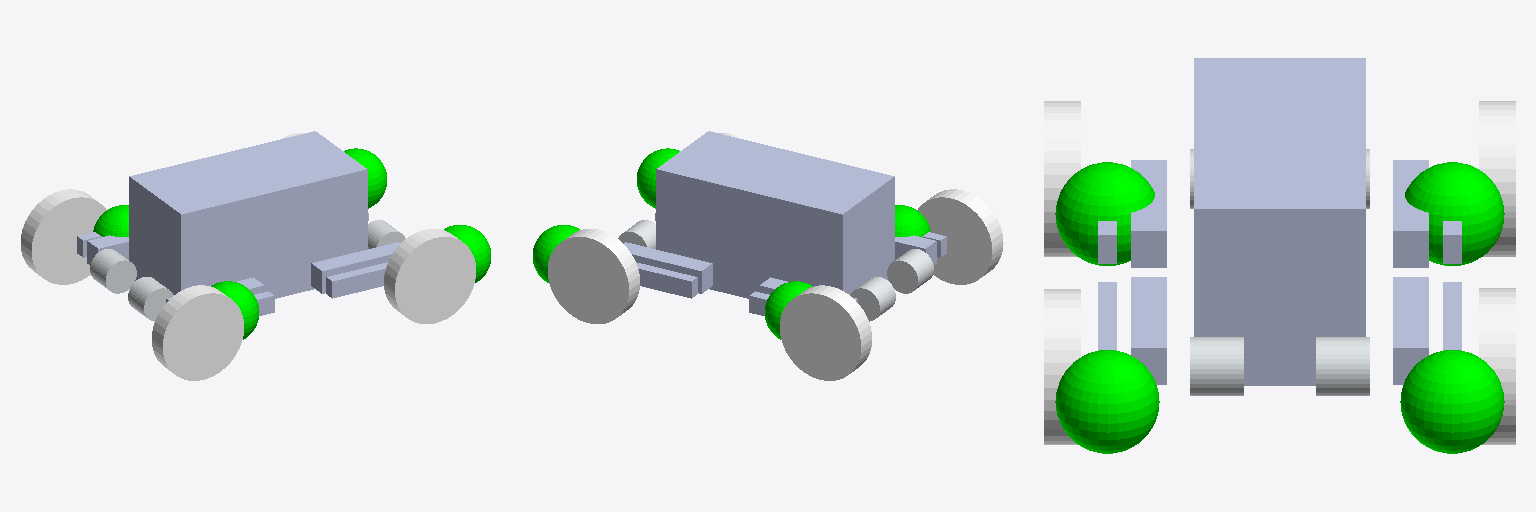
The robot description file, URDF, robot "robotsky_wq":
<?xml version="1.0" encoding="utf-8"?>
<!-- This URDF was automatically created by SolidWorks to URDF Exporter! Originally created by [author] ([email redacted]) 
     Commit Version: 1.6.0-4-g7f85cfe  Build Version: 1.6.7995.38578
     For more information, please see http://wiki.ros.org/sw_urdf_exporter -->
<robot name="robotsky_wq">
  <link name="base_link">
    <inertial>
      <origin xyz="0.0 0.0 0.0" rpy="0 0 0" />
      <mass value="10.2741064" />
      <inertia ixx="0.06433677438" ixy="-5.51931185939954E-18" ixz="2.59645143851211E-35" iyy="0.1557870497976" iyz="1.1905679766836E-34" izz="0.147821154744" />
    </inertial>
    <visual>
      <origin xyz="0 0 0" rpy="0 0 0" />
      <geometry>
        <mesh filename="package://srobot_description/meshes/robotsky_wq/base_link.STL" />
      </geometry>
      <material name="">
        <color rgba="0.796078431372549 0.823529411764706 0.937254901960784 1" />
      </material>
    </visual>
    <collision>
      <origin xyz="0 0 0" rpy="0 0 0" />
      <geometry>
        <mesh filename="package://srobot_description/meshes/robotsky_wq/base_link.STL" />
      </geometry>
    </collision>
  </link>
  <link name="RF_Roll_Link">
    <inertial>
      <origin xyz="0.213 -0.0605 0" rpy="0 0 0" />
      <mass value="0.351377163747343" />
      <inertia ixx="0.000147512525555682" ixy="7.27296704683984E-21" ixz="2.91358029794812E-36" iyy="0.00014270305062689" iyz="-1.01206721034946E-36" izz="0.000147512525555682" />
    </inertial>
    <visual>
      <origin xyz="0 0 0" rpy="0 0 0" />
      <geometry>
        <mesh filename="package://srobot_description/meshes/robotsky_wq/RF_Roll_Link.STL" />
      </geometry>
      <material name="">
        <color rgba="0.898039215686275 0.917647058823529 0.929411764705882 1" />
      </material>
    </visual>
    <collision>
      <origin xyz="0 0 0" rpy="0 0 0" />
      <geometry>
        <mesh filename="package://srobot_description/meshes/robotsky_wq/RF_Roll_Link.STL" />
      </geometry>
    </collision>
  </link>
  <joint name="RF_Roll_Joint" type="revolute">
    <origin xyz="0 0 0" rpy="0 0 0" />
    <parent link="base_link" />
    <child link="RF_Roll_Link" />
    <axis xyz="1 0 0" />
    <limit lower="-0.5" upper="1.57" effort="7" velocity="12" />
  </joint>
  <link name="RF_Hip_Link">
    <inertial>
      <origin xyz="-0.0799999999999999 -0.0655 6.93889390390723E-18" rpy="0 0 0" />
      <mass value="0.2576" />
      <inertia ixx="6.06433333333334E-05" ixy="-6.03732920138416E-21" ixz="-5.19513540982638E-21" iyy="0.000583893333333334" iyz="1.2987838524566E-21" izz="0.000575843333333334" />
    </inertial>
    <visual>
      <origin xyz="0 0 0" rpy="0 0 0" />
      <geometry>
        <mesh filename="package://srobot_description/meshes/robotsky_wq/RF_Hip_Link.STL" />
      </geometry>
      <material name="">
        <color rgba="0.796078431372549 0.823529411764706 0.937254901960784 1" />
      </material>
    </visual>
    <collision>
      <origin xyz="0 0 0" rpy="0 0 0" />
      <geometry>
        <mesh filename="package://srobot_description/meshes/robotsky_wq/RF_Hip_Link.STL" />
      </geometry>
    </collision>
  </link>
  <joint name="RF_Hip_Joint" type="revolute">
    <origin xyz="0.213 -0.06 0" rpy="0 0 0" />
    <parent link="RF_Roll_Link" />
    <child link="RF_Hip_Link" />
    <axis xyz="0 1 0" />
    <limit lower="-3.14" upper="0.01" effort="14" velocity="30" />
  </joint>
  <link name="RF_Knee_Link">
    <inertial>
      <origin xyz="0.08 -0.04 6.93889390390723E-18" rpy="0 0 0" />
      <mass value="0.50488" />
      <inertia ixx="1.102114E-05" ixy="1.34076054656801E-22" ixz="-5.98479599211999E-22" iyy="0.00023161" iyz="-3.24695963114148E-22" izz="0.00022689914" />
    </inertial>
    <visual>
      <origin xyz="0 0 0" rpy="0 0 0" />
      <geometry>
        <mesh filename="package://srobot_description/meshes/robotsky_wq/RF_Knee_Link.STL" />
      </geometry>
      <material name="">
        <color rgba="0.796078431372549 0.823529411764706 0.937254901960784 1" />
      </material>
    </visual>
    <collision>
      <origin xyz="0 0 0" rpy="0 0 0" />
      <geometry>
        <mesh filename="package://srobot_description/meshes/robotsky_wq/RF_Knee_Link.STL" />
      </geometry>
    </collision>
  </link>
  <joint name="RF_Knee_Joint" type="revolute">
    <origin xyz="-0.16 -0.0655 0" rpy="0 0 0" />
    <parent link="RF_Hip_Link" />
    <child link="RF_Knee_Link" />
    <axis xyz="0 1 0" />
    <limit lower="-0.01" upper="3.14" effort="17" velocity="30" />
  </joint>
  <link name="RF_Wheel_Link">
    <inertial>
      <origin xyz="2.77555756156289E-17 -0.0430000000000001 0" rpy="0 0 0" />
      <mass value="0.630871074749001" />
      <inertia ixx="0.000951563871079743" ixy="-9.77416343626862E-20" ixz="-6.6558105573585E-51" iyy="0.00177432489773156" iyz="-1.60011892683328E-36" izz="0.000951563871079743" />
    </inertial>
    <visual>
      <origin xyz="0 0 0" rpy="0 0 0" />
      <geometry>
        <mesh filename="package://srobot_description/meshes/robotsky_wq/RF_Wheel_Link.STL" />
      </geometry>
      <material name="">
        <color rgba="1 1 1 1" />
      </material>
    </visual>
    <visual>
      <geometry>
        <sphere radius="0.05" />
      </geometry>
      <origin xyz="0.08 0.0 0.0" rpy="0 0 0" />
      <material name="green">
        <color rgba="0 1 0 1" />
      </material>
    </visual>
    <collision>
      <origin xyz="0 -0.042 0" rpy="1.57 0 0" />
      <geometry>
        <cylinder radius="0.075" length="0.035"/>
        <!-- <mesh filename="package://srobot_description/meshes/robotsky_wq/RF_Wheel_Link.STL" /> -->
      </geometry>
    </collision>
    <!-- <collision>
      <origin xyz="0 0 0" rpy="0 0 0" />
      <geometry>
        <mesh filename="package://srobot_description/meshes/robotsky_wq/RF_Wheel_Link.STL" />
      </geometry>
    </collision> -->
  </link>
  <joint name="RF_Wheel_Joint" type="revolute">
    <origin xyz="0.16 -0.04 0" rpy="0 0 0" />
    <parent link="RF_Knee_Link" />
    <child link="RF_Wheel_Link" />
    <axis xyz="0 1 0" />
    <limit lower="-300000000" upper="300000000" effort="7" velocity="12" />
  </joint>
  <link name="LF_Roll_Link">
    <inertial>
      <origin xyz="2.77555756156289E-17 0.000500000000000056 0" rpy="0 0 0" />
      <mass value="0.351377163747343" />
      <inertia ixx="0.000147512525555682" ixy="-7.27296704683984E-21" ixz="2.91358029794812E-36" iyy="0.00014270305062689" iyz="1.01206721034946E-36" izz="0.000147512525555682" />
    </inertial>
    <visual>
      <origin xyz="0 0 0" rpy="0 0 0" />
      <geometry>
        <mesh filename="package://srobot_description/meshes/robotsky_wq/LF_Roll_Link.STL" />
      </geometry>
      <material name="">
        <color rgba="0.898039215686275 0.917647058823529 0.929411764705882 1" />
      </material>
    </visual>
    <collision>
      <origin xyz="0 0 0" rpy="0 0 0" />
      <geometry>
        <mesh filename="package://srobot_description/meshes/robotsky_wq/LF_Roll_Link.STL" />
      </geometry>
    </collision>
  </link>
  <joint name="LF_Roll_Joint" type="revolute">
    <origin xyz="0.213 0.06 0" rpy="0 0 0" />
    <parent link="base_link" />
    <child link="LF_Roll_Link" />
    <axis xyz="1 0 0" />
    <limit lower="-1.57" upper="0.5" effort="7" velocity="12" />
  </joint>
  <link name="LF_Hip_Link">
    <inertial>
      <origin xyz="-0.0799999999999999 0.0655000000000001 0" rpy="0 0 0" />
      <mass value="0.2576" />
      <inertia ixx="6.06433333333334E-05" ixy="-6.03732920138414E-21" ixz="-5.19513540982638E-21" iyy="0.000583893333333334" iyz="-2.69693614176841E-36" izz="0.000575843333333334" />
    </inertial>
    <visual>
      <origin xyz="0 0 0" rpy="0 0 0" />
      <geometry>
        <mesh filename="package://srobot_description/meshes/robotsky_wq/LF_Hip_Link.STL" />
      </geometry>
      <material name="">
        <color rgba="0.796078431372549 0.823529411764706 0.937254901960784 1" />
      </material>
    </visual>
    <collision>
      <origin xyz="0 0 0" rpy="0 0 0" />
      <geometry>
        <mesh filename="package://srobot_description/meshes/robotsky_wq/LF_Hip_Link.STL" />
      </geometry>
    </collision>
  </link>
  <joint name="LF_Hip_Joint" type="revolute">
    <origin xyz="0 0 0" rpy="0 0 0" />
    <parent link="LF_Roll_Link" />
    <child link="LF_Hip_Link" />
    <axis xyz="0 1 0" />
    <limit lower="-3.14" upper="0.01" effort="14" velocity="30" />
  </joint>
  <link name="LF_Knee_Link">
    <inertial>
      <origin xyz="0.08 0.04 6.93889390390723E-18" rpy="0 0 0" />
      <mass value="0.50488" />
      <inertia ixx="1.102114E-05" ixy="1.34076054656801E-22" ixz="-5.98479599211999E-22" iyy="0.00023161" iyz="-3.24695963114148E-22" izz="0.00022689914" />
    </inertial>
    <visual>
      <origin xyz="0 0 0" rpy="0 0 0" />
      <geometry>
        <mesh filename="package://srobot_description/meshes/robotsky_wq/LF_Knee_Link.STL" />
      </geometry>
      <material name="">
        <color rgba="0.796078431372549 0.823529411764706 0.937254901960784 1" />
      </material>
    </visual>
    <collision>
      <origin xyz="0 0 0" rpy="0 0 0" />
      <geometry>
        <mesh filename="package://srobot_description/meshes/robotsky_wq/LF_Knee_Link.STL" />
      </geometry>
    </collision>
  </link>
  <joint name="LF_Knee_Joint" type="revolute">
    <origin xyz="-0.16 0.0655 0" rpy="0 0 0" />
    <parent link="LF_Hip_Link" />
    <child link="LF_Knee_Link" />
    <axis xyz="0 1 0" />
    <limit lower="-0.01" upper="3.14" effort="17" velocity="30" />
  </joint>
  <link name="LF_Wheel_Link">
    <inertial>
      <origin xyz="2.77555756156289E-17 0.0430000000000001 0" rpy="0 0 0" />
      <mass value="0.630871074749001" />
      <inertia ixx="0.000951563871079743" ixy="9.77416343626861E-20" ixz="-6.65581055735849E-52" iyy="0.00177432489773156" iyz="1.60011892683328E-36" izz="0.000951563871079743" />
    </inertial>
    <visual>
      <origin xyz="0 0 0" rpy="0 0 0" />
      <geometry>
        <mesh filename="package://srobot_description/meshes/robotsky_wq/LF_Wheel_Link.STL" />
      </geometry>
      <material name="">
        <color rgba="1 1 1 1" />
      </material>
    </visual>
    <visual>
      <geometry>
        <sphere radius="0.05" />
      </geometry>
      <origin xyz="0.08 0.0 0.0" rpy="0 0 0" />
      <material name="green">
        <color rgba="0 1 0 1" />
      </material>
    </visual>
    <collision>
      <origin xyz="0 0.042 0" rpy="1.57 0 0" />
      <geometry>
        <cylinder radius="0.075" length="0.035"/>
        <!-- <mesh filename="package://srobot_description/meshes/robotsky_wq/RF_Wheel_Link.STL" /> -->
      </geometry>
    </collision>
    <!-- <collision>
      <origin xyz="0 0 0" rpy="0 0 0" />
      <geometry>
        <mesh filename="package://srobot_description/meshes/robotsky_wq/LF_Wheel_Link.STL" />
      </geometry>
    </collision> -->
  </link>
  <joint name="LF_Wheel_Joint" type="revolute">
    <origin xyz="0.16 0.04 0" rpy="0 0 0" />
    <parent link="LF_Knee_Link" />
    <child link="LF_Wheel_Link" />
    <axis xyz="0 1 0" />
    <limit lower="-300000000" upper="300000000" effort="7" velocity="12" />
  </joint>
  <link name="RB_Roll_Link">
    <inertial>
      <origin xyz="-8.32667268468867E-17 -0.0005 0" rpy="0 0 0" />
      <mass value="0.351377163747343" />
      <inertia ixx="0.000147512525555682" ixy="-7.27296704683984E-21" ixz="-1.83982824040269E-36" iyy="0.00014270305062689" iyz="7.10051835412516E-22" izz="0.000147512525555682" />
    </inertial>
    <visual>
      <origin xyz="0 0 0" rpy="0 0 0" />
      <geometry>
        <mesh filename="package://srobot_description/meshes/robotsky_wq/RB_Roll_Link.STL" />
      </geometry>
      <material name="">
        <color rgba="0.898039215686275 0.917647058823529 0.929411764705882 1" />
      </material>
    </visual>
    <collision>
      <origin xyz="0 0 0" rpy="0 0 0" />
      <geometry>
        <mesh filename="package://srobot_description/meshes/robotsky_wq/RB_Roll_Link.STL" />
      </geometry>
    </collision>
  </link>
  <joint name="RB_Roll_Joint" type="revolute">
    <origin xyz="-0.213 -0.06 0" rpy="0 0 0" />
    <parent link="base_link" />
    <child link="RB_Roll_Link" />
    <axis xyz="1 0 0" />
    <limit lower="-0.5" upper="1.57" effort="7" velocity="12" />
  </joint>
  <link name="RB_Hip_Link">
    <inertial>
      <origin xyz="0.0799999999999999 -0.0655 1.38777878078145E-17" rpy="0 0 0" />
      <mass value="0.2576" />
      <inertia ixx="6.06433333333334E-05" ixy="-6.03732920138414E-21" ixz="5.19513540982638E-21" iyy="0.000583893333333334" iyz="-1.18847012609475E-21" izz="0.000575843333333334" />
    </inertial>
    <visual>
      <origin xyz="0 0 0" rpy="0 0 0" />
      <geometry>
        <mesh filename="package://srobot_description/meshes/robotsky_wq/RB_Hip_Link.STL" />
      </geometry>
      <material name="">
        <color rgba="0.796078431372549 0.823529411764706 0.937254901960784 1" />
      </material>
    </visual>
    <collision>
      <origin xyz="0 0 0" rpy="0 0 0" />
      <geometry>
        <mesh filename="package://srobot_description/meshes/robotsky_wq/RB_Hip_Link.STL" />
      </geometry>
    </collision>
  </link>
  <joint name="RB_Hip_Joint" type="revolute">
    <origin xyz="0 0 0" rpy="0 0 0" />
    <parent link="RB_Roll_Link" />
    <child link="RB_Hip_Link" />
    <axis xyz="0 1 0" />
    <limit lower="-0.01" upper="3.14" effort="14" velocity="30" />
  </joint>
  <link name="RB_Knee_Link">
    <inertial>
      <origin xyz="-0.08 -0.04 6.93889390390723E-18" rpy="0 0 0" />
      <mass value="0.50488" />
      <inertia ixx="1.102114E-05" ixy="1.34076054656801E-22" ixz="5.98479599211999E-22" iyy="0.00023161" iyz="3.24695963114148E-22" izz="0.00022689914" />
    </inertial>
    <visual>
      <origin xyz="0 0 0" rpy="0 0 0" />
      <geometry>
        <mesh filename="package://srobot_description/meshes/robotsky_wq/RB_Knee_Link.STL" />
      </geometry>
      <material name="">
        <color rgba="0.796078431372549 0.823529411764706 0.937254901960784 1" />
      </material>
    </visual>
    <collision>
      <origin xyz="0 0 0" rpy="0 0 0" />
      <geometry>
        <mesh filename="package://srobot_description/meshes/robotsky_wq/RB_Knee_Link.STL" />
      </geometry>
    </collision>
  </link>
  <joint name="RB_Knee_Joint" type="revolute">
    <origin xyz="0.16 -0.0655 0" rpy="0 0 0" />
    <parent link="RB_Hip_Link" />
    <child link="RB_Knee_Link" />
    <axis xyz="0 1 0" />
    <limit lower="-3.14" upper="0.01" effort="17" velocity="30" />
  </joint>
  <link name="RB_Wheel_Link">
    <inertial>
      <origin xyz="-2.77555756156289E-17 -0.0430000000000001 0" rpy="0 0 0" />
      <mass value="0.630871074749001" />
      <inertia ixx="0.000951563871079743" ixy="9.77416343626861E-20" ixz="6.65581055735849E-52" iyy="0.00177432489773156" iyz="-1.60011892683328E-36" izz="0.000951563871079743" />
    </inertial>
    <visual>
      <origin xyz="0 0 0" rpy="0 0 0" />
      <geometry>
        <mesh filename="package://srobot_description/meshes/robotsky_wq/RB_Wheel_Link.STL" />
      </geometry>
      <material name="">
        <color rgba="1 1 1 1" />
      </material>
    </visual>
    <visual>
      <geometry>
        <sphere radius="0.05" />
      </geometry>
      <origin xyz="0.08 0.0 0.0" rpy="0 0 0" />
      <material name="green">
        <color rgba="0 1 0 1" />
      </material>
    </visual>
    <collision>
      <origin xyz="0 -0.042 0" rpy="1.57 0 0" />
      <geometry>
        <cylinder radius="0.075" length="0.035"/>
        <!-- <mesh filename="package://srobot_description/meshes/robotsky_wq/RF_Wheel_Link.STL" /> -->
      </geometry>
    </collision>
    <!-- <collision>
      <origin xyz="0 0 0" rpy="0 0 0" />
      <geometry>
        <mesh filename="package://srobot_description/meshes/robotsky_wq/RB_Wheel_Link.STL" />
      </geometry>
    </collision> -->
  </link>
  <joint name="RB_Wheel_Joint" type="revolute">
    <origin xyz="-0.16 -0.04 0" rpy="0 0 0" />
    <parent link="RB_Knee_Link" />
    <child link="RB_Wheel_Link" />
    <axis xyz="0 1 0" />
    <limit lower="-300000000" upper="300000000" effort="7" velocity="12" />
  </joint>
  <link name="LB_Roll_Link">
    <inertial>
      <origin xyz="-2.77555756156289E-17 0.000500000000000021 0" rpy="0 0 0" />
      <mass value="0.351377163747343" />
      <inertia ixx="0.000147512525555682" ixy="7.27296704683984E-21" ixz="-1.83982824040269E-36" iyy="0.00014270305062689" iyz="-7.10051835412516E-22" izz="0.000147512525555682" />
    </inertial>
    <visual>
      <origin xyz="0 0 0" rpy="0 0 0" />
      <geometry>
        <mesh filename="package://srobot_description/meshes/robotsky_wq/LB_Roll_Link.STL" />
      </geometry>
      <material name="">
        <color rgba="0.898039215686275 0.917647058823529 0.929411764705882 1" />
      </material>
    </visual>
    <collision>
      <origin xyz="0 0 0" rpy="0 0 0" />
      <geometry>
        <mesh filename="package://srobot_description/meshes/robotsky_wq/LB_Roll_Link.STL" />
      </geometry>
    </collision>
  </link>
  <joint name="LB_Roll_Joint" type="revolute">
    <origin xyz="-0.213 0.06 0" rpy="0 0 0" />
    <parent link="base_link" />
    <child link="LB_Roll_Link" />
    <axis xyz="1 0 0" />
    <limit lower="-1.57" upper="0.5" effort="7" velocity="12" />
  </joint>
  <link name="LB_Hip_Link">
    <inertial>
      <origin xyz="0.0799999999999999 0.0655 2.08166817117217E-17" rpy="0 0 0" />
      <mass value="0.2576" />
      <inertia ixx="6.06433333333334E-05" ixy="-6.03732920138416E-21" ixz="5.19513540982638E-21" iyy="0.000583893333333334" iyz="-1.10313726361844E-22" izz="0.000575843333333334" />
    </inertial>
    <visual>
      <origin xyz="0 0 0" rpy="0 0 0" />
      <geometry>
        <mesh filename="package://srobot_description/meshes/robotsky_wq/LB_Hip_Link.STL" />
      </geometry>
      <material name="">
        <color rgba="0.796078431372549 0.823529411764706 0.937254901960784 1" />
      </material>
    </visual>
    <collision>
      <origin xyz="0 0 0" rpy="0 0 0" />
      <geometry>
        <mesh filename="package://srobot_description/meshes/robotsky_wq/LB_Hip_Link.STL" />
      </geometry>
    </collision>
  </link>
  <joint name="LB_Hip_Joint" type="revolute">
    <origin xyz="0 0 0" rpy="0 0 0" />
    <parent link="LB_Roll_Link" />
    <child link="LB_Hip_Link" />
    <axis xyz="0 1 0" />
    <limit lower="-0.01" upper="3.14" effort="14" velocity="30" />
  </joint>
  <link name="LB_Knee_Link">
    <inertial>
      <origin xyz="-0.08 0.04 6.93889390390723E-18" rpy="0 0 0" />
      <mass value="0.50488" />
      <inertia ixx="1.102114E-05" ixy="1.34076054656801E-22" ixz="5.98479599211999E-22" iyy="0.00023161" iyz="3.24695963114148E-22" izz="0.00022689914" />
    </inertial>
    <visual>
      <origin xyz="0 0 0" rpy="0 0 0" />
      <geometry>
        <mesh filename="package://srobot_description/meshes/robotsky_wq/LB_Knee_Link.STL" />
      </geometry>
      <material name="">
        <color rgba="0.796078431372549 0.823529411764706 0.937254901960784 1" />
      </material>
    </visual>
    <collision>
      <origin xyz="0 0 0" rpy="0 0 0" />
      <geometry>
        <mesh filename="package://srobot_description/meshes/robotsky_wq/LB_Knee_Link.STL" />
      </geometry>
    </collision>
  </link>
  <joint name="LB_Knee_Joint" type="revolute">
    <origin xyz="0.16 0.0655 0" rpy="0 0 0" />
    <parent link="LB_Hip_Link" />
    <child link="LB_Knee_Link" />
    <axis xyz="0 1 0" />
    <limit lower="-3.14" upper="0.01" effort="17" velocity="30" />
  </joint>
  <link name="LB_Wheel_Link">
    <inertial>
      <origin xyz="-2.77555756156289E-17 0.0430000000000001 0" rpy="0 0 0" />
      <mass value="0.630871074749001" />
      <inertia ixx="0.000951563871079743" ixy="-9.77416343626862E-20" ixz="6.6558105573585E-51" iyy="0.00177432489773156" iyz="1.60011892683328E-36" izz="0.000951563871079743" />
    </inertial>
    <visual>
      <origin xyz="0 0 0" rpy="0 0 0" />
      <geometry>
        <mesh filename="package://srobot_description/meshes/robotsky_wq/LB_Wheel_Link.STL" />
      </geometry>
      <material name="">
        <color rgba="1 1 1 1" />
      </material>
    </visual>
    <visual>
      <geometry>
        <sphere radius="0.05" />
      </geometry>
      <origin xyz="0.08 0.0 0.0" rpy="0 0 0" />
      <material name="green">
        <color rgba="0 1 0 1" />
      </material>
    </visual>
    <collision>
      <origin xyz="0 0.042 0" rpy="1.57 0 0" />
      <geometry>
        <cylinder radius="0.075" length="0.035"/>
        <!-- <mesh filename="package://srobot_description/meshes/robotsky_wq/RF_Wheel_Link.STL" /> -->
      </geometry>
    </collision>
    <!-- <collision>
      <origin xyz="0 0 0" rpy="0 0 0" />
      <geometry>
        <mesh filename="package://srobot_description/meshes/robotsky_wq/LB_Wheel_Link.STL" />
      </geometry>
    </collision> -->
  </link>
  <joint name="LB_Wheel_Joint" type="revolute">
    <origin xyz="-0.16 0.04 0" rpy="0 0 0" />
    <parent link="LB_Knee_Link" />
    <child link="LB_Wheel_Link" />
    <axis xyz="0 1 0" />
    <limit lower="-300000000" upper="300000000" effort="7" velocity="12" />
  </joint>
</robot>

--- Render facts (derived) ---
The picture shows the robot from 3 angles, left to right: view 1: azimuth 30°, elevation 25°; view 2: azimuth 150°, elevation 25°; view 3: azimuth 270°, elevation 25°; orthographic projection.
Model robotsky_wq with 17 links and 16 joints (16 revolute), rooted at base_link, posed all joints at 0.
Visible links, largest first — view 1: base_link, RB_Wheel_Link, RF_Wheel_Link, LB_Wheel_Link, RF_Hip_Link, LB_Roll_Link, RF_Knee_Link, RB_Roll_Link, LF_Wheel_Link, RF_Roll_Link, LB_Hip_Link; view 2: base_link, LB_Wheel_Link, LF_Wheel_Link, RB_Wheel_Link, LF_Hip_Link, RB_Roll_Link, LF_Knee_Link, LB_Roll_Link, RF_Wheel_Link, LF_Roll_Link, RB_Hip_Link; view 3: base_link, LF_Wheel_Link, RF_Wheel_Link, RB_Wheel_Link, LB_Wheel_Link, RF_Hip_Link, LF_Hip_Link, RF_Roll_Link, LF_Roll_Link, RB_Hip_Link, LB_Hip_Link, RF_Knee_Link (+3 smaller).
Boxes of the visible links, box(x1,y1,x2,y2) form: base_link: box(129, 131, 367, 298); RB_Wheel_Link: box(152, 281, 258, 380); RF_Wheel_Link: box(384, 225, 490, 323); LB_Wheel_Link: box(21, 189, 128, 284); RF_Hip_Link: box(311, 242, 400, 293); LB_Roll_Link: box(90, 249, 136, 293); RF_Knee_Link: box(326, 262, 387, 298); RB_Roll_Link: box(128, 277, 173, 321); LF_Wheel_Link: box(282, 133, 386, 208); RF_Roll_Link: box(368, 220, 405, 248); LB_Hip_Link: box(87, 235, 128, 264); base_link: box(656, 131, 894, 298); LB_Wheel_Link: box(765, 281, 871, 380); LF_Wheel_Link: box(533, 225, 639, 323); RB_Wheel_Link: box(895, 189, 1003, 284); LF_Hip_Link: box(624, 242, 712, 293); RB_Roll_Link: box(887, 249, 933, 293); LF_Knee_Link: box(636, 262, 697, 298); LB_Roll_Link: box(850, 277, 895, 321); RF_Wheel_Link: box(637, 133, 741, 208); LF_Roll_Link: box(618, 220, 655, 248); RB_Hip_Link: box(895, 235, 936, 264); base_link: box(1194, 58, 1365, 385); LF_Wheel_Link: box(1400, 288, 1515, 453); RF_Wheel_Link: box(1044, 289, 1159, 453); RB_Wheel_Link: box(1044, 101, 1154, 265); LB_Wheel_Link: box(1405, 101, 1515, 265); RF_Hip_Link: box(1131, 277, 1166, 384); LF_Hip_Link: box(1393, 277, 1428, 384); RF_Roll_Link: box(1190, 337, 1243, 395); LF_Roll_Link: box(1316, 337, 1369, 395); RB_Hip_Link: box(1131, 160, 1166, 267); LB_Hip_Link: box(1393, 160, 1428, 267); RF_Knee_Link: box(1098, 282, 1116, 350).
Bounding box of the posed robot: 0.631 × 0.452 × 0.2224 m (x, y, z).
17 mesh visuals loaded from 17 distinct referenced files (17 binary STL).
